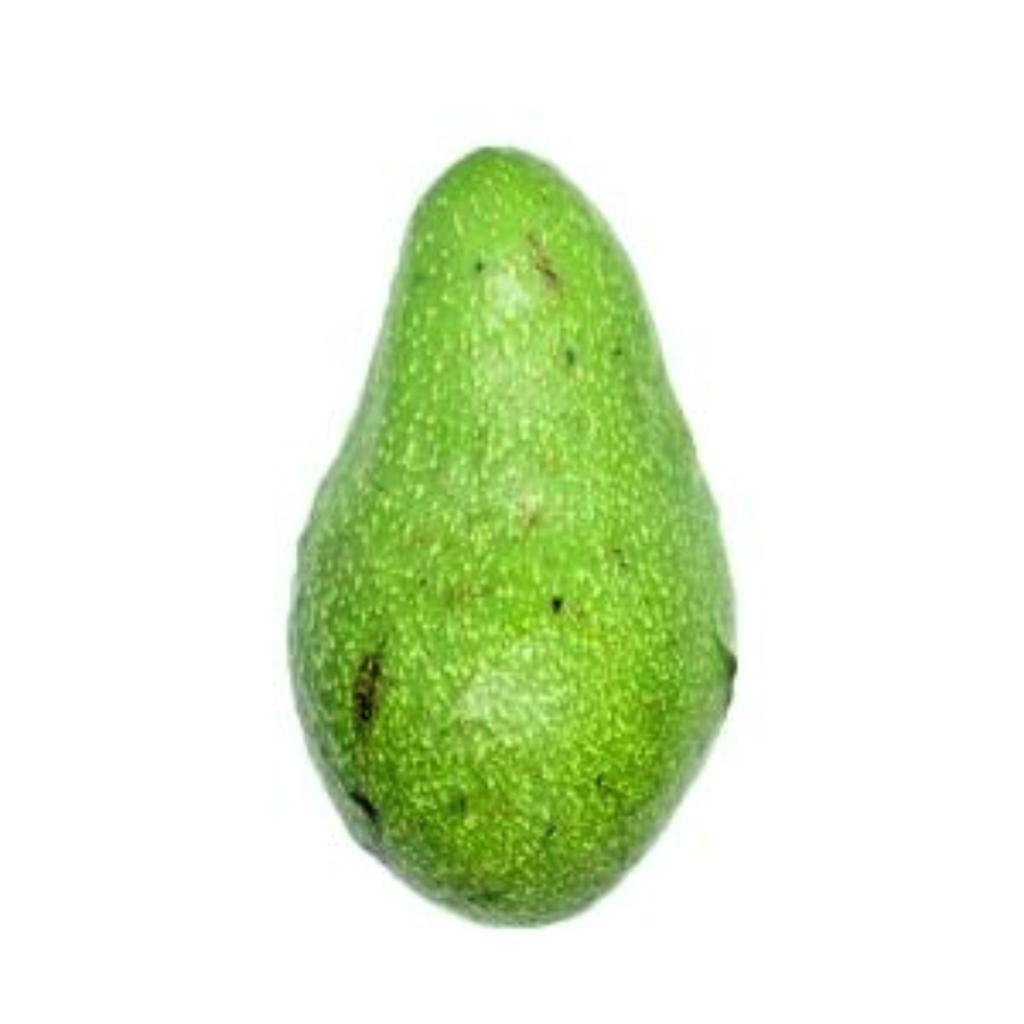cercospora_spot: (284, 114, 768, 930)
